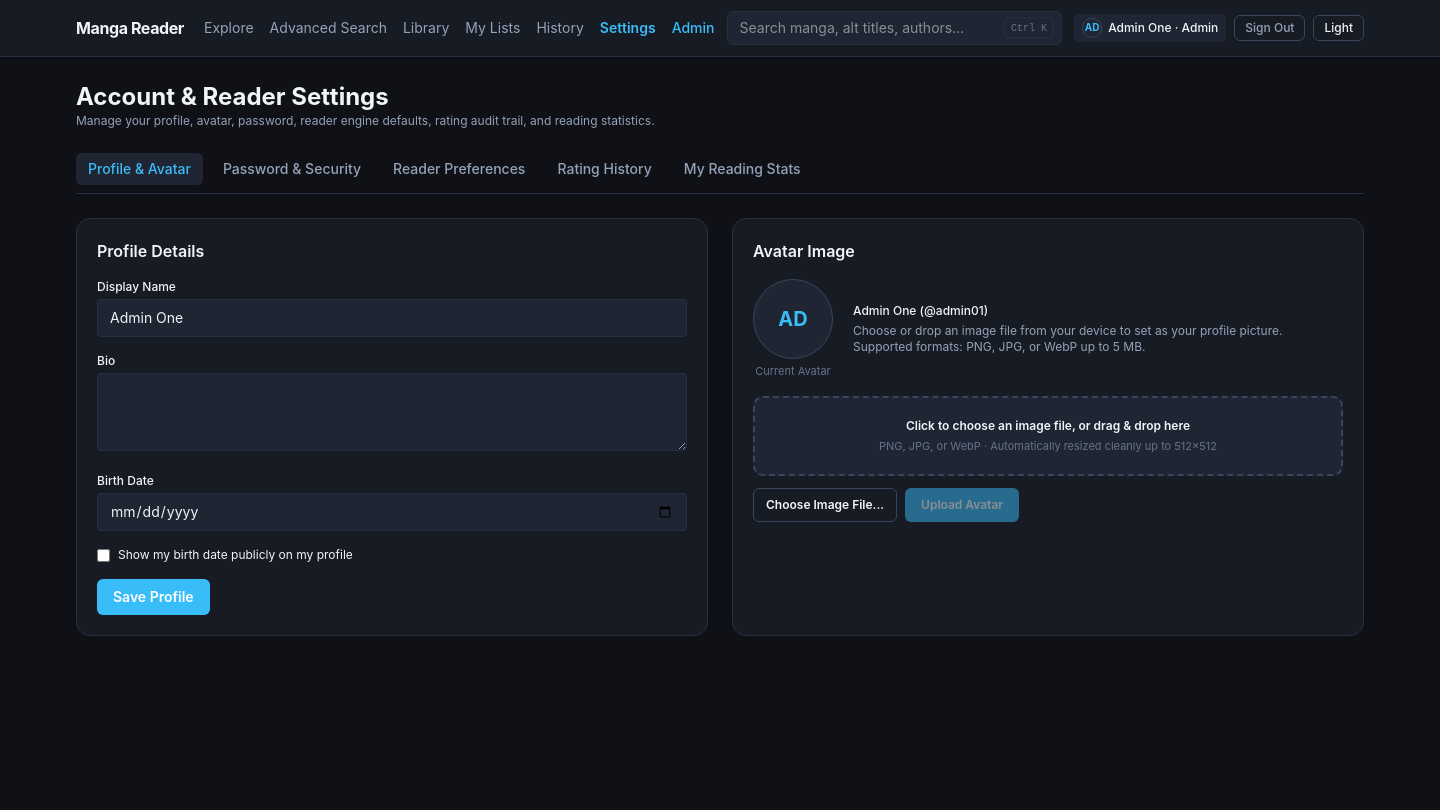
Manga Reader Frontend Application › renders Reader Experience Studio and Data Storytelling stats in SettingsPage including for admins
The image size is (1440, 810).
Click the button "Password & Security": (292, 169) [211,153,373,185]
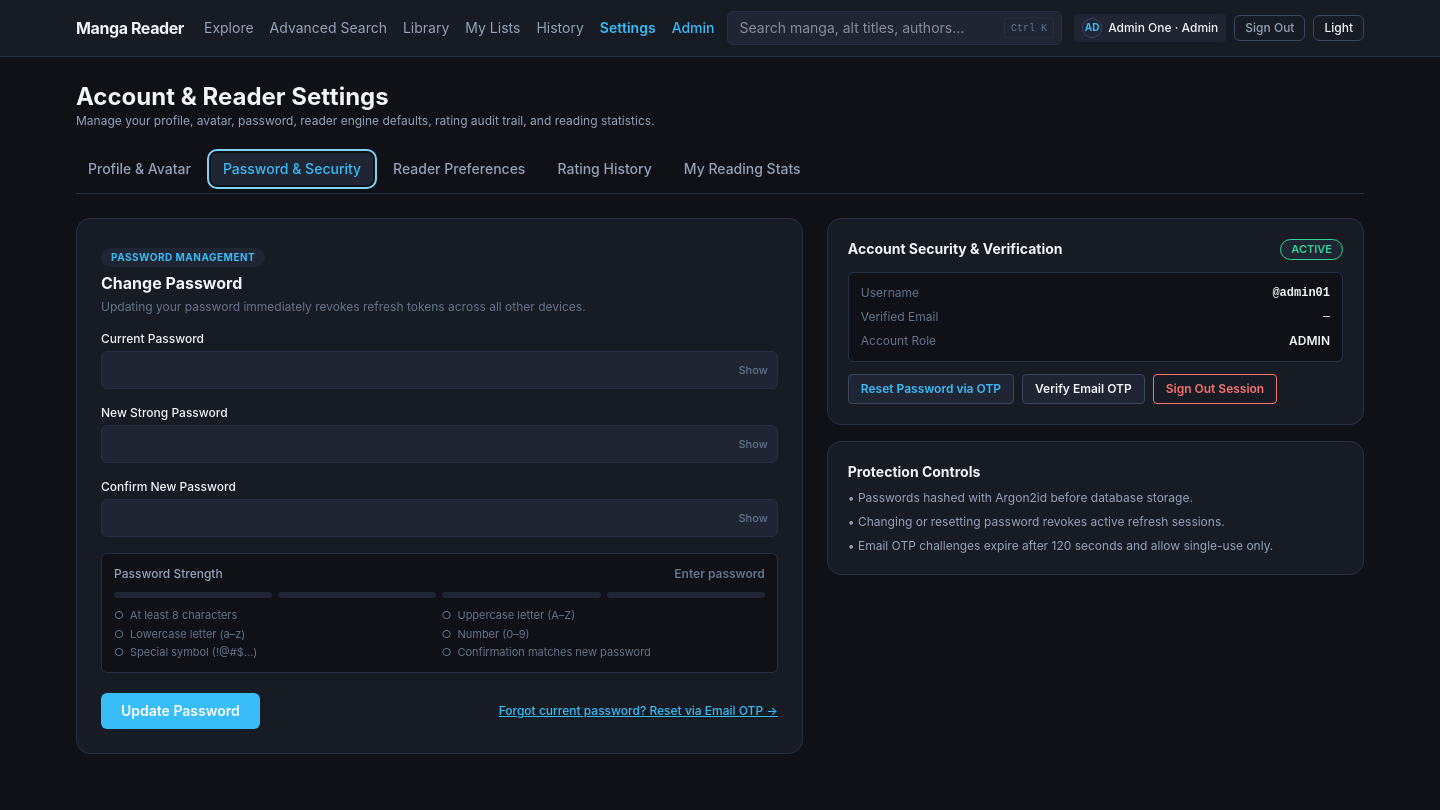
Result: the password field labelled "Confirm New Password" is shown at [101,499,778,537]
Result: the text "Password Strength" is shown at [114,566,223,582]
Result: the link "Reset Password via OTP" is shown at [848,374,1014,404]
Click the button "Reader Preferences": (459, 169) [381,153,537,185]
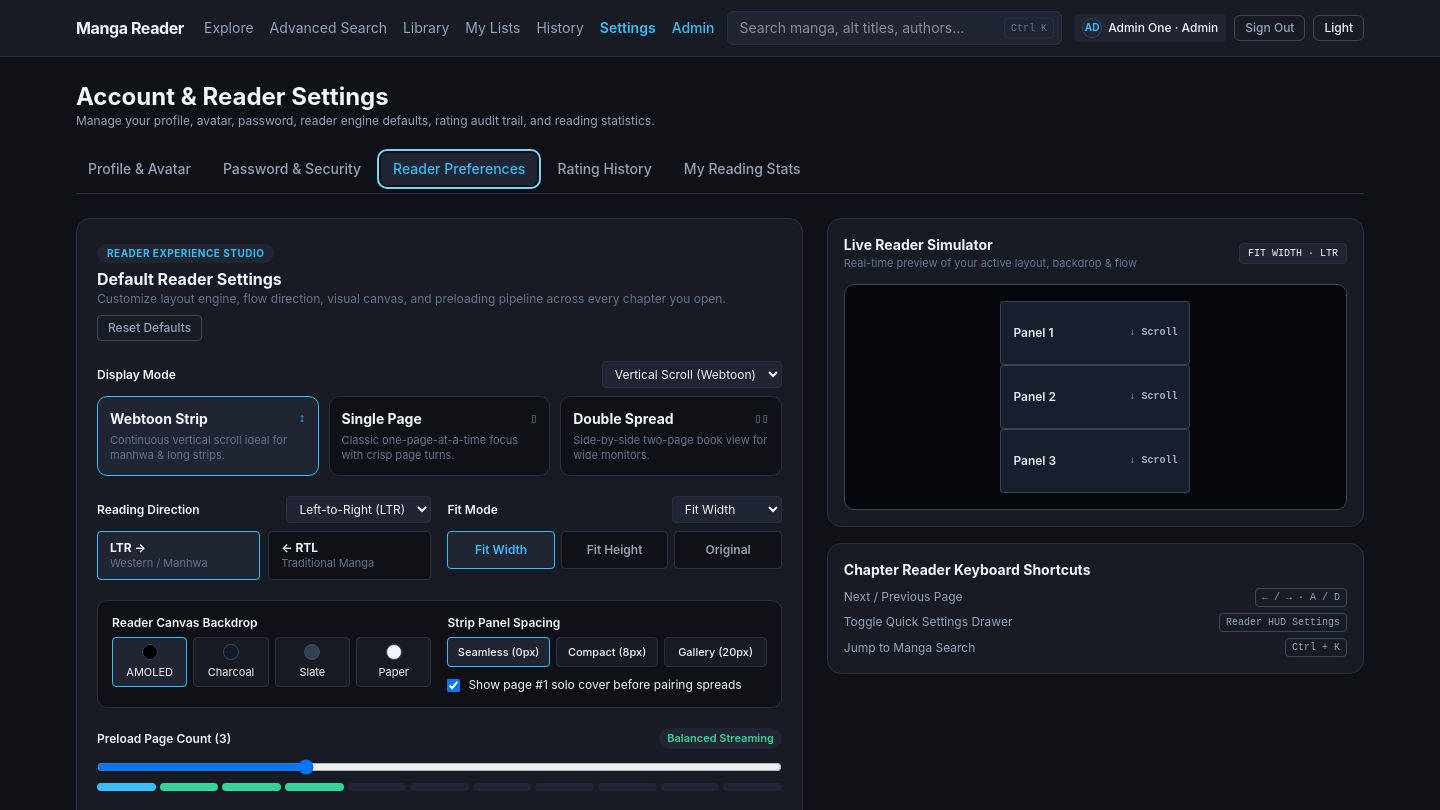
Result: the heading "Live Reader Simulator" is shown at [844,236,993,253]
Click the button "My Reading Stats": (742, 169) [672,153,813,185]
(page scrolled)
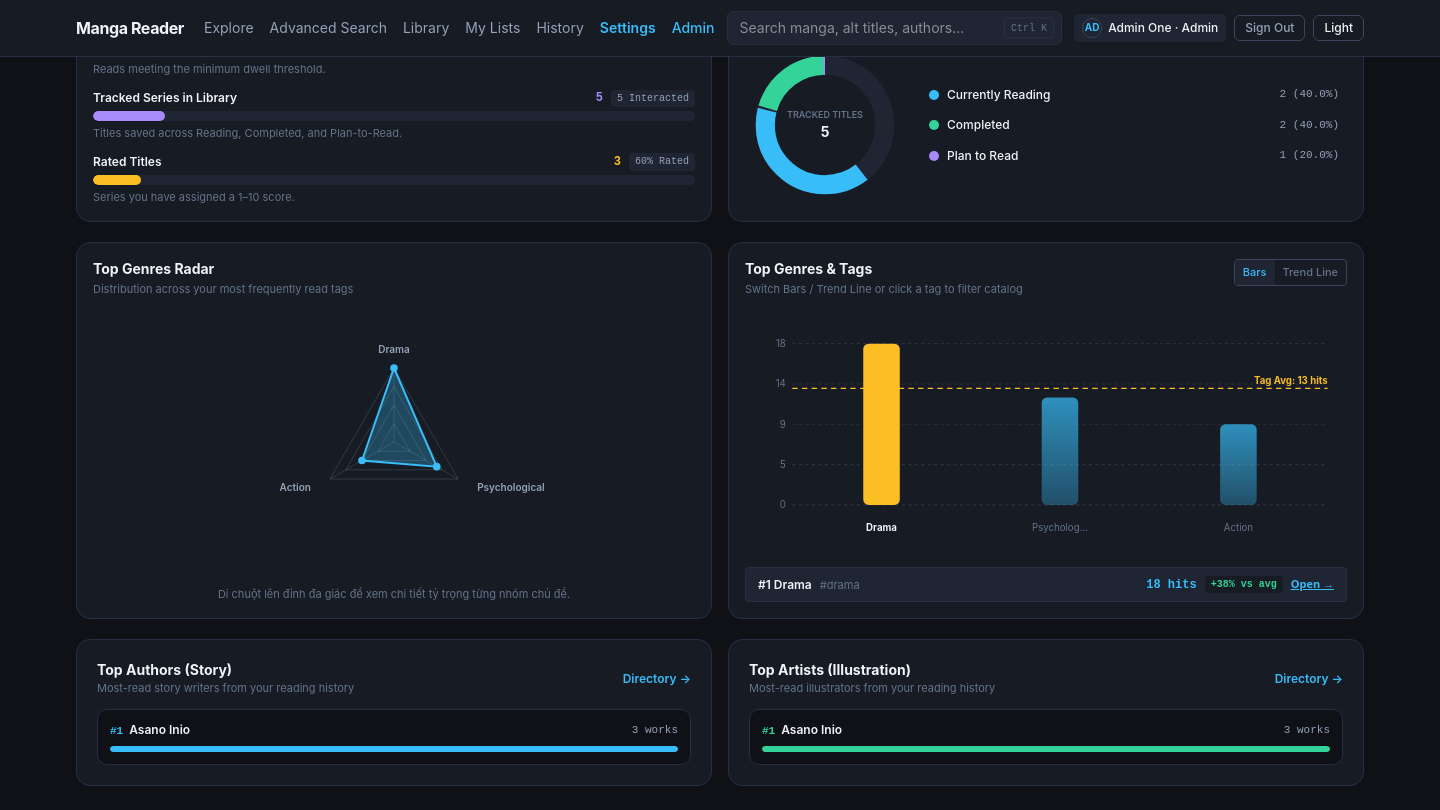
Result: the heading "Top Genres Radar" is shown at [93,260,214,277]
Result: the heading "Top Authors (Story)" is shown at [97,661,232,678]
Result: the heading "Top Artists (Illustration)" is shown at [749,661,911,678]
